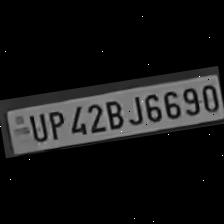0: (198, 81, 220, 114)
2: (83, 99, 106, 135)
4: (64, 102, 89, 138)
6: (158, 86, 182, 122), (138, 90, 162, 124)
9: (177, 83, 201, 119)
B: (101, 96, 126, 132)
J: (122, 92, 144, 127)
P: (43, 106, 67, 142)
U: (26, 111, 48, 143)
